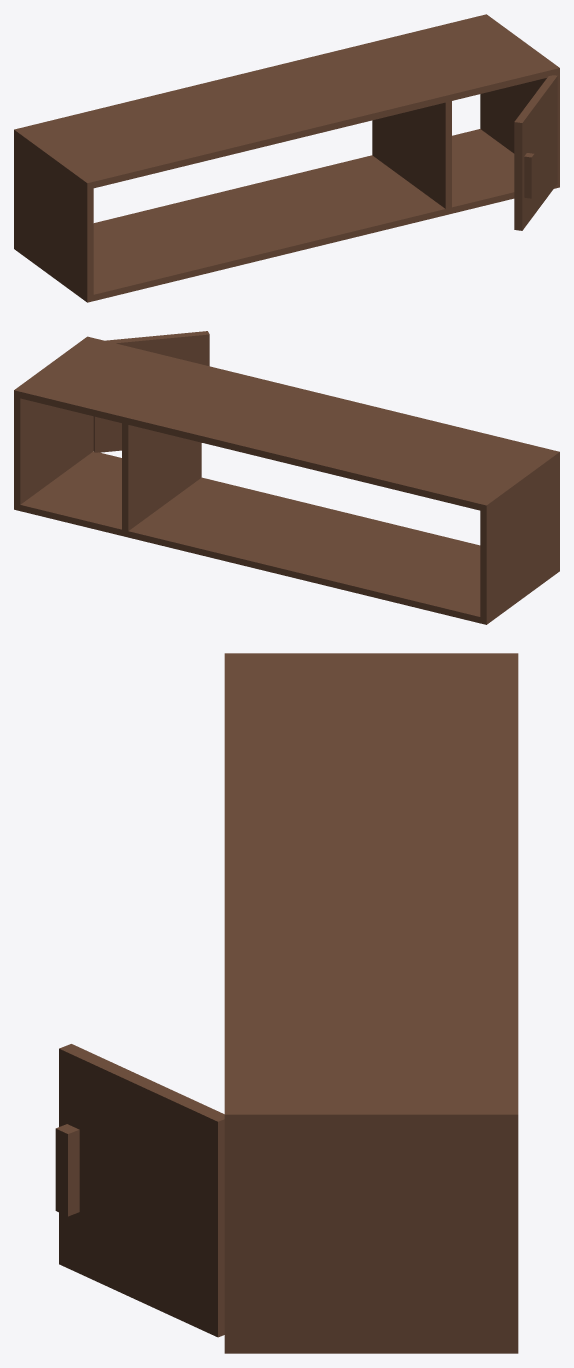
Rendered from mdl_shelf.glb.
3 views of the same model, one above another, from view 1: azimuth 30°, elevation 25°; view 2: azimuth 150°, elevation 25°; view 3: azimuth 270°, elevation 25° (orthographic). The views are drawn at different scales.
Visible parts, largest first — view 1: Cube, Cube.001; view 2: Cube, Cube.001; view 3: Cube, Cube.001.
Part boxes in pixels (left/top/right/bottom): Cube: left=14, top=14, right=559, bottom=302; Cube.001: left=514, top=75, right=557, bottom=230; Cube: left=14, top=336, right=559, bottom=624; Cube.001: left=93, top=331, right=209, bottom=452; Cube: left=224, top=653, right=518, bottom=1353; Cube.001: left=55, top=1044, right=224, bottom=1337.
Bounding box in the file's own units: 7.44 × 1.8 × 3.15.
